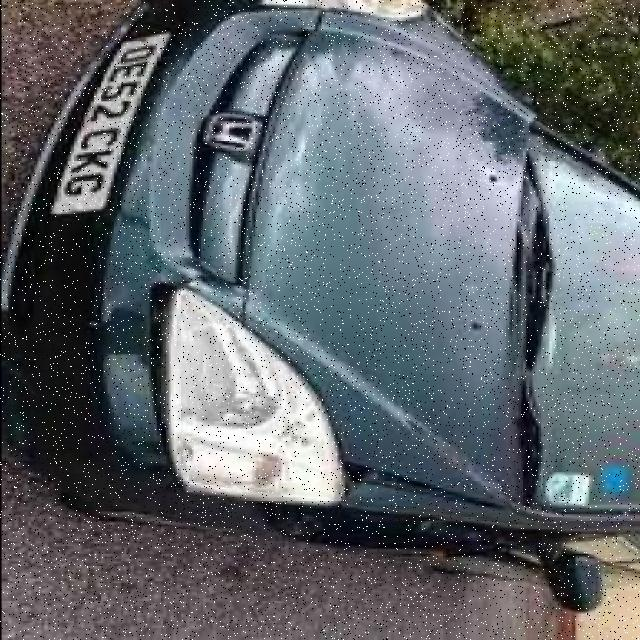damage: (125, 252, 240, 466), (334, 445, 504, 520)
